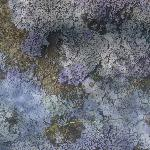dead: (3, 3, 148, 145)
